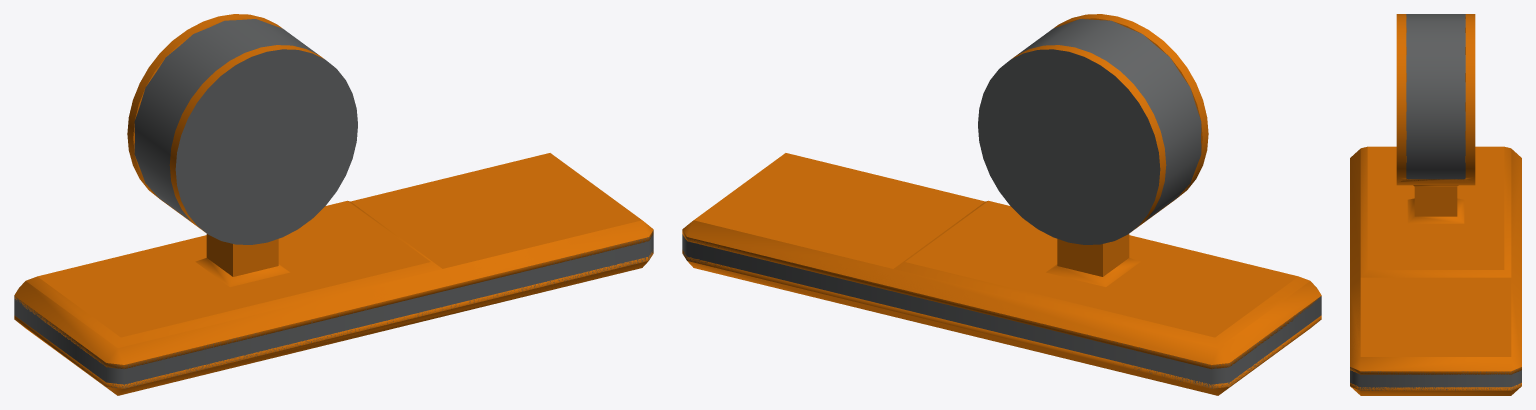
Rendered from foot.fbx.
3 renders of one model, left to right at view 1: azimuth 30°, elevation 25°; view 2: azimuth 150°, elevation 25°; view 3: azimuth 270°, elevation 25°, orthographic. The views are drawn at different scales.
Visible parts, largest first — view 1: foot_LOD0, foot_col; view 2: foot_LOD0, foot_col; view 3: foot_col, foot_LOD0.
Part boxes in pixels (x1,y1,x2,y2): foot_LOD0: [14, 14, 653, 395]; foot_col: [14, 19, 653, 394]; foot_LOD0: [682, 14, 1321, 395]; foot_col: [682, 19, 1321, 395]; foot_col: [1350, 14, 1521, 390]; foot_LOD0: [1350, 14, 1521, 395].
Size of what is drawn, in the model's own units: 72 by 36 by 24.
